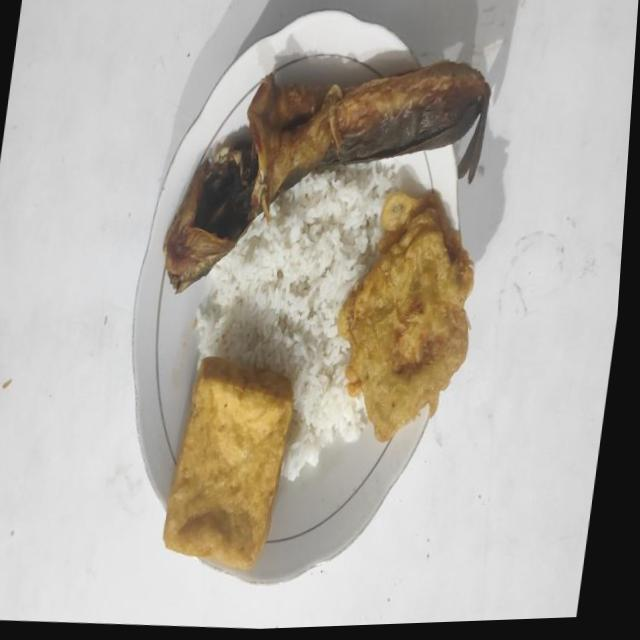nasi_putih: (194, 161, 396, 480)
tahu_goreng: (162, 356, 292, 568)
